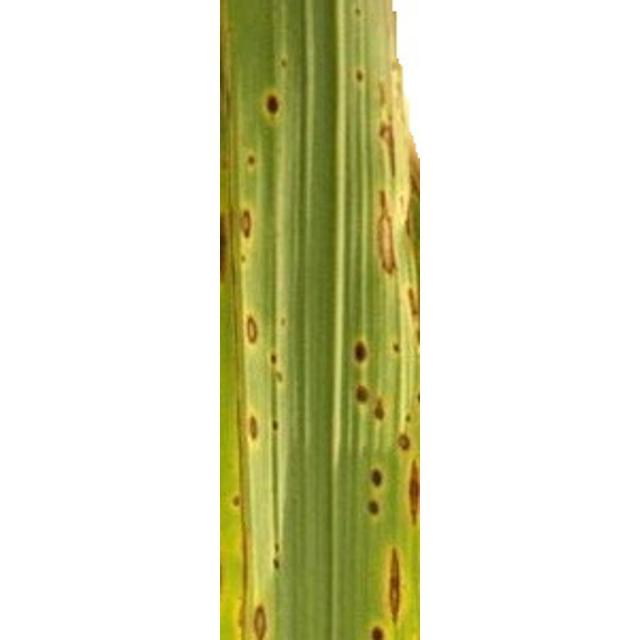Brown spot: (352, 178, 400, 280), (374, 77, 408, 179), (374, 537, 412, 626), (350, 326, 370, 412), (399, 455, 422, 529), (358, 460, 384, 519), (239, 400, 262, 453), (254, 82, 284, 120), (252, 597, 278, 639), (260, 536, 288, 572), (340, 56, 370, 89), (234, 208, 261, 242), (243, 312, 266, 348), (236, 147, 258, 180), (227, 482, 242, 518), (370, 396, 386, 426), (346, 0, 366, 24), (275, 52, 299, 72), (396, 432, 411, 454), (390, 338, 402, 357), (402, 406, 413, 426)
